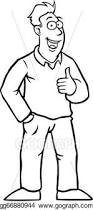thumbs_up: (52, 64, 86, 96)
